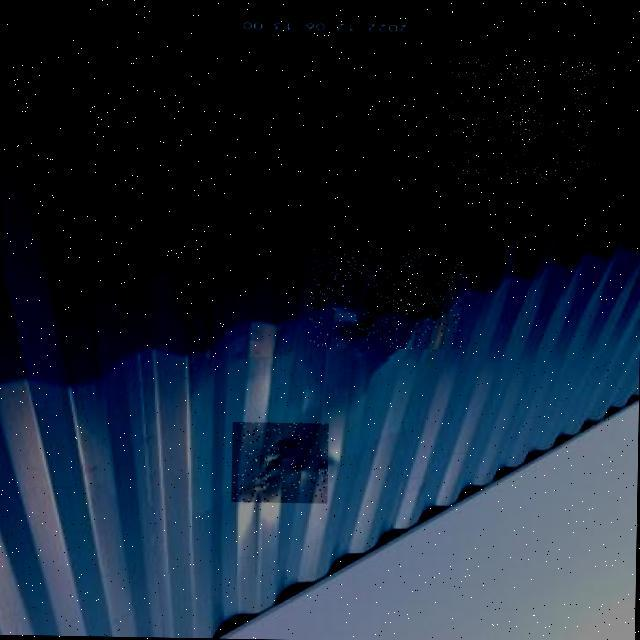Dent: (446, 58, 597, 181), (308, 248, 464, 349), (231, 419, 328, 503)
